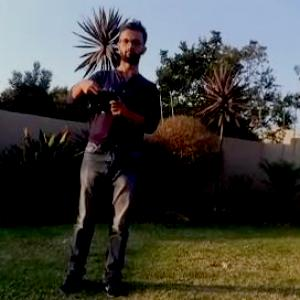follow: (52, 13, 162, 299)
